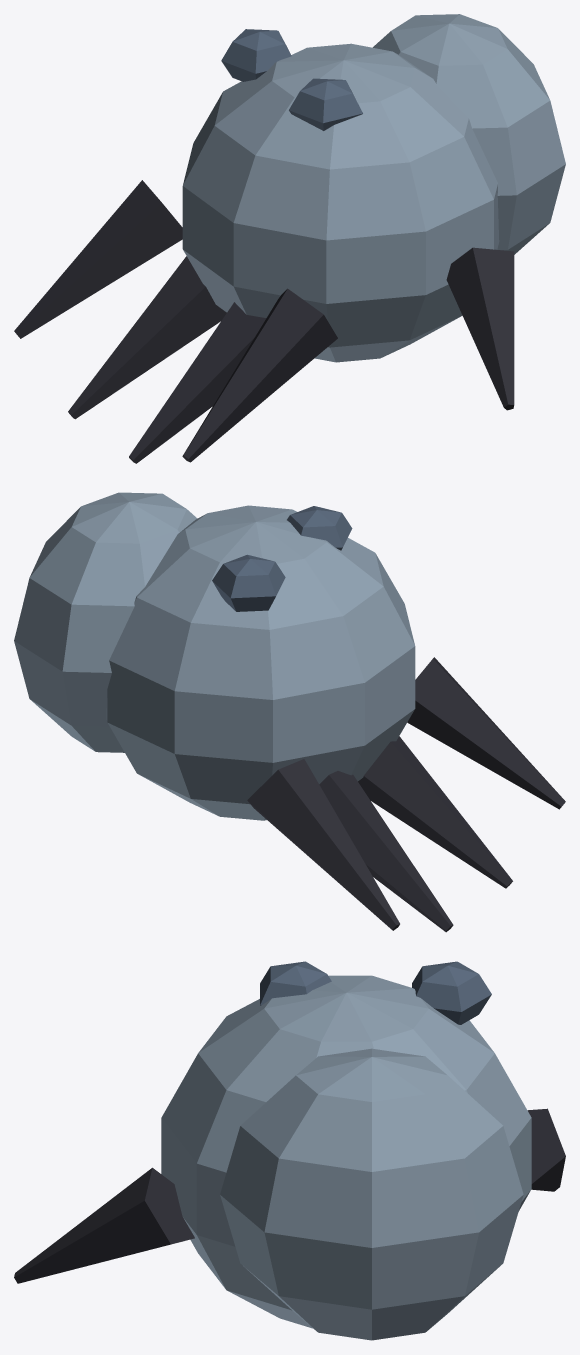
The model's file is mountain_troll_fist_r.glb.
3 renders of one model, top to bottom at view 1: azimuth 30°, elevation 25°; view 2: azimuth 150°, elevation 25°; view 3: azimuth 270°, elevation 25°, orthographic. The views are drawn at different scales.
Visible parts, largest first — view 1: mountain_troll_fist_r; view 2: mountain_troll_fist_r; view 3: mountain_troll_fist_r.
Boxes of the visible parts, x1,y1,x2,y2 form: mountain_troll_fist_r: (14, 14, 565, 463); mountain_troll_fist_r: (14, 492, 565, 932); mountain_troll_fist_r: (14, 961, 565, 1340).
Size of the model in its own units: 0.4629 by 0.3289 by 0.4362.
